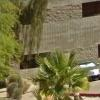Tree: (26, 45, 84, 96)
